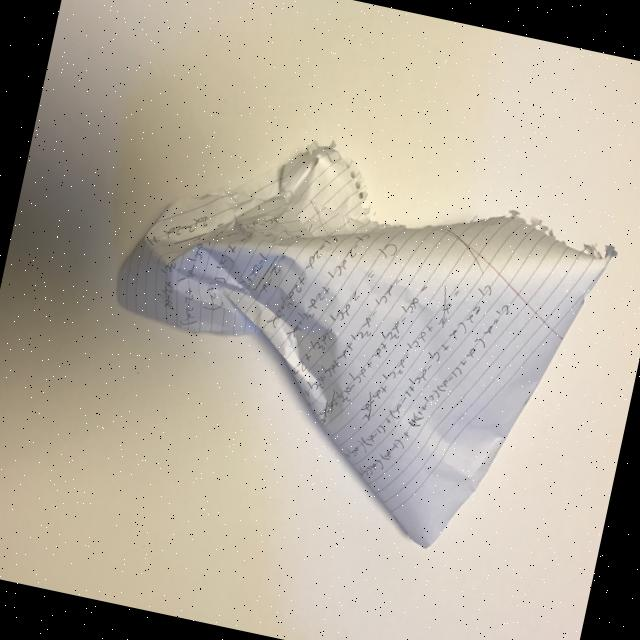paper: (74, 101, 627, 575)
